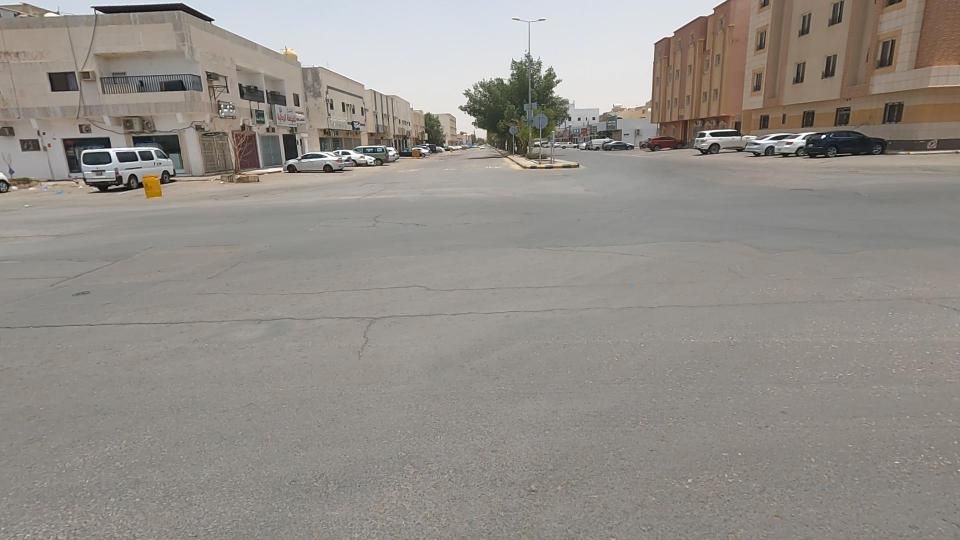GARBAGE: (7, 167, 87, 213), (203, 164, 246, 199)
